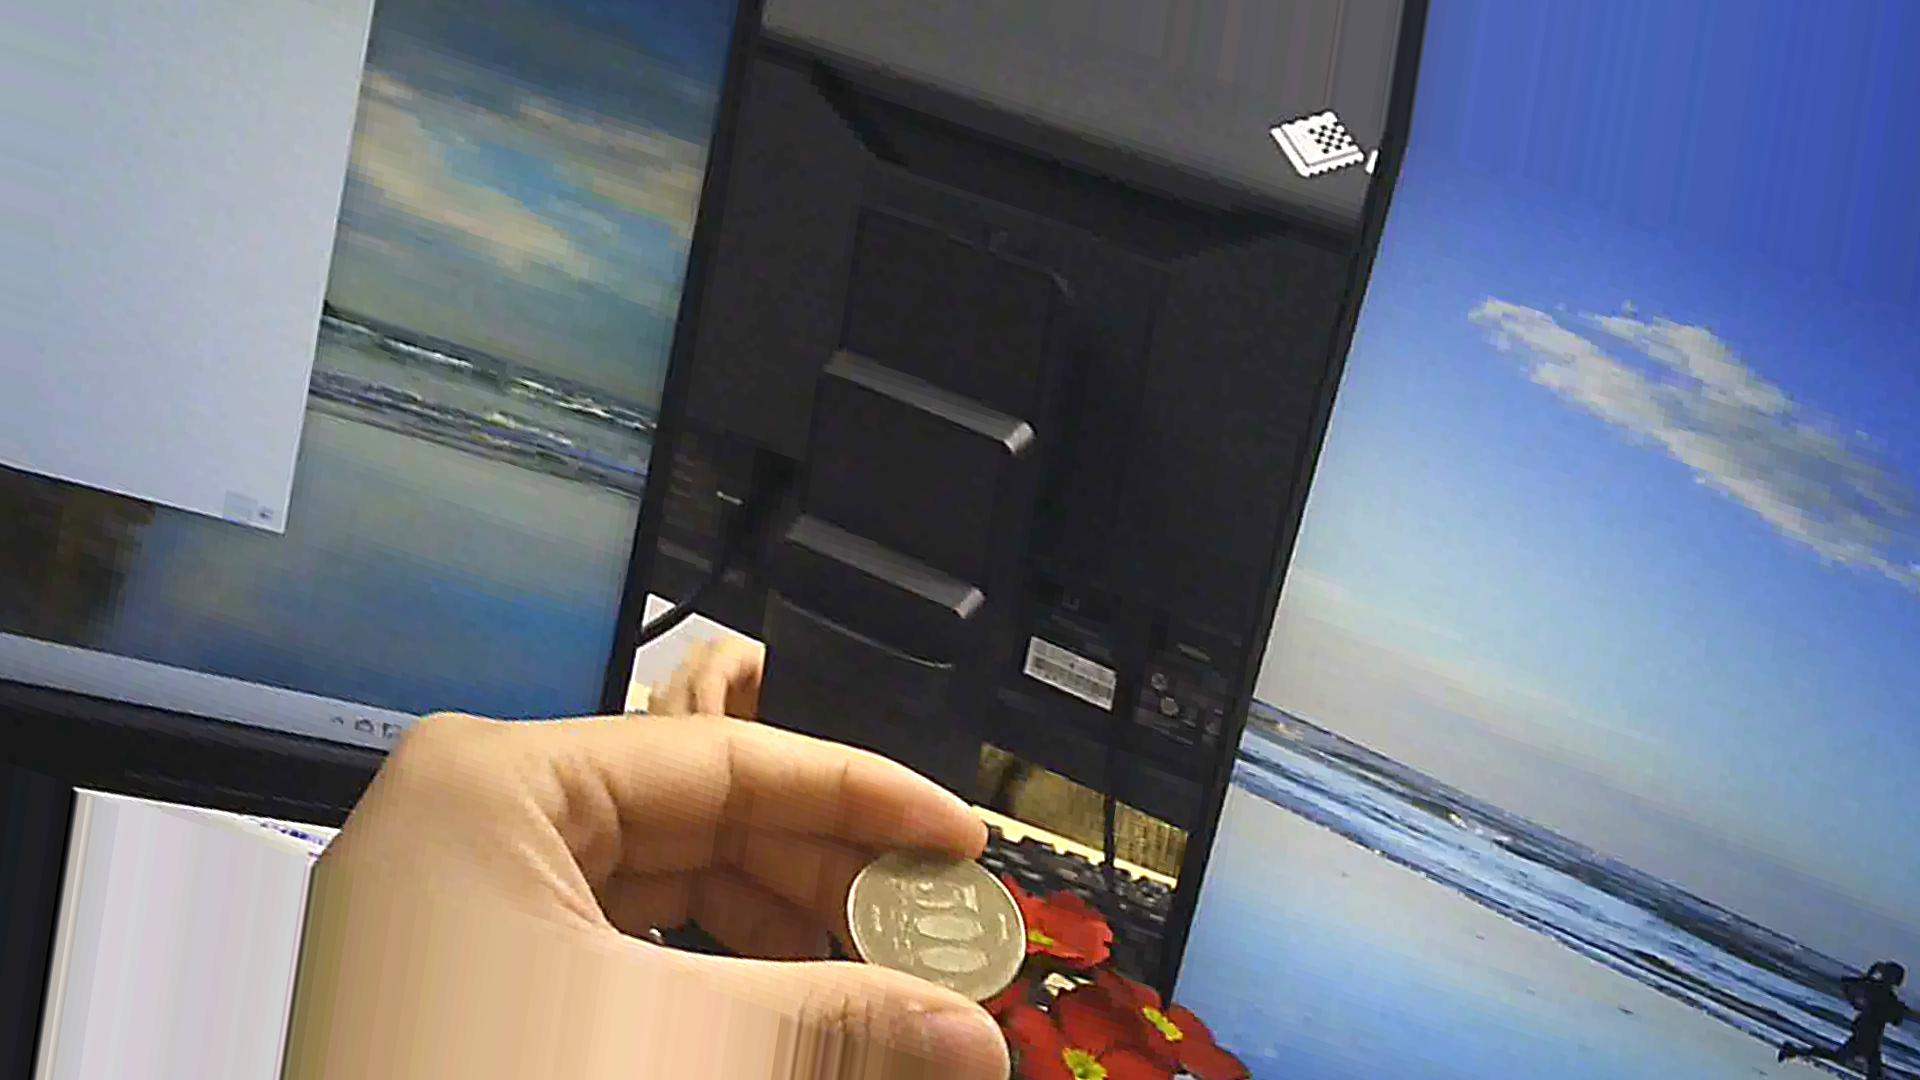500 Yen: (839, 825, 1033, 1023)
